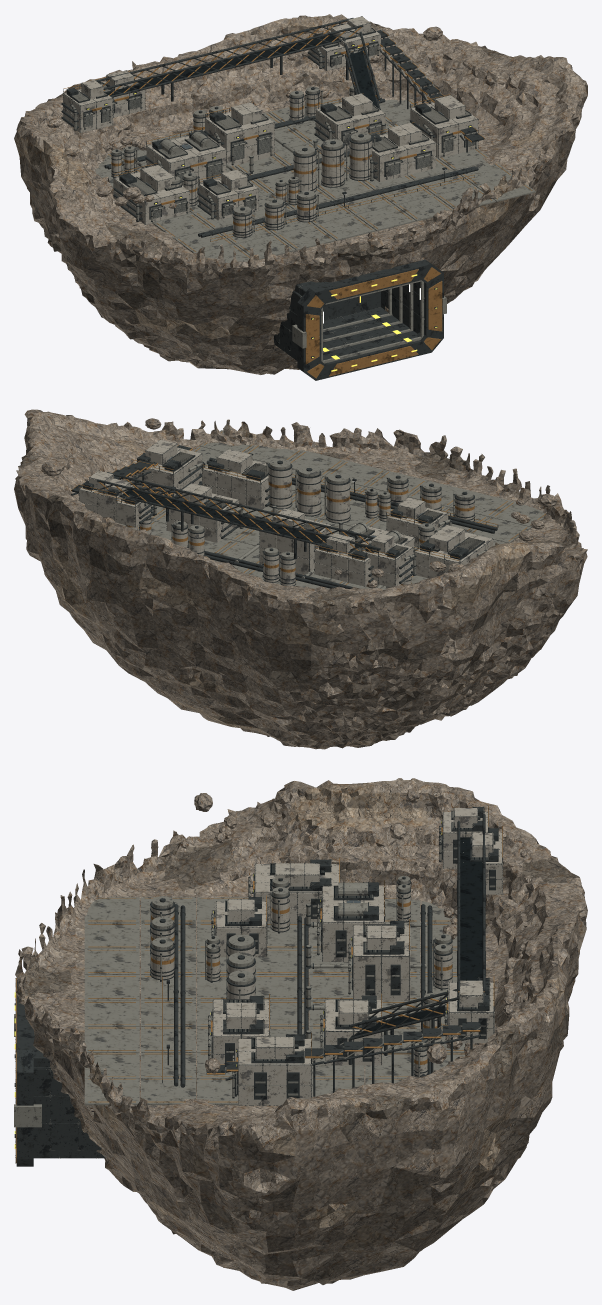
3 views of the same model, one above another, from view 1: azimuth 30°, elevation 25°; view 2: azimuth 150°, elevation 25°; view 3: azimuth 270°, elevation 25° (orthographic). The views are drawn at different scales.
Visible parts, largest first — view 1: quarried-asteroid, static/machined-alloy, static/dark-structure, static/cladding-pale-steel-1, static/cladding-dark-structure, static/pale-steel-1, static/service-ochre, static/cladding-pale-steel-0, static/cladding-service-ochre, static/cladding-pale-steel-2, static/mineral-bedrock, static/recess-black; view 2: quarried-asteroid, static/machined-alloy, static/dark-structure, static/cladding-pale-steel-1, static/pale-steel-1, static/cladding-pale-steel-0, static/service-ochre, static/cladding-pale-steel-2, static/cladding-dark-structure, static/mineral-bedrock, static/recess-black; view 3: quarried-asteroid, static/machined-alloy, static/dark-structure, static/cladding-pale-steel-1, static/cladding-dark-structure, static/cladding-pale-steel-0, static/cladding-pale-steel-2, static/recess-black, static/service-ochre, static/pale-steel-1, static/mineral-bedrock.
Boxes of the visible parts, x1,y1,x2,y2 form: quarried-asteroid: (14,14,587,374); static/machined-alloy: (62,16,535,378); static/dark-structure: (61,16,484,380); static/cladding-pale-steel-1: (63,16,478,219); static/cladding-dark-structure: (66,25,431,360); static/pale-steel-1: (111,91,372,237); static/service-ochre: (63,21,532,257); static/cladding-pale-steel-0: (63,34,478,219); static/cladding-service-ochre: (305,267,442,378); static/cladding-pale-steel-2: (96,31,437,224); static/mineral-bedrock: (40,26,512,208); static/recess-black: (79,31,470,195); quarried-asteroid: (14,409,587,749); static/machined-alloy: (71,430,544,589); static/dark-structure: (71,439,498,588); static/cladding-pale-steel-1: (89,440,493,587); static/pale-steel-1: (126,467,474,587); static/cladding-pale-steel-0: (79,447,456,586); static/service-ochre: (71,431,545,585); static/cladding-pale-steel-2: (79,454,492,581); static/cladding-dark-structure: (83,453,468,560); static/mineral-bedrock: (41,418,557,589); static/recess-black: (93,462,449,555); quarried-asteroid: (15,778,587,1290); static/machined-alloy: (14,806,502,1163); static/dark-structure: (14,807,503,1166); static/cladding-pale-steel-1: (212,808,502,1085); static/cladding-dark-structure: (33,807,498,1158); static/cladding-pale-steel-0: (212,813,502,1105); static/cladding-pale-steel-2: (215,833,502,1105); static/recess-black: (224,812,494,1060); static/service-ochre: (88,806,502,1102); static/pale-steel-1: (151,884,452,1077); static/mineral-bedrock: (180,788,526,1073).
Size of the model in its own units: 1432 by 676 by 1023.
Materials: 13 (11 with a texture image).
